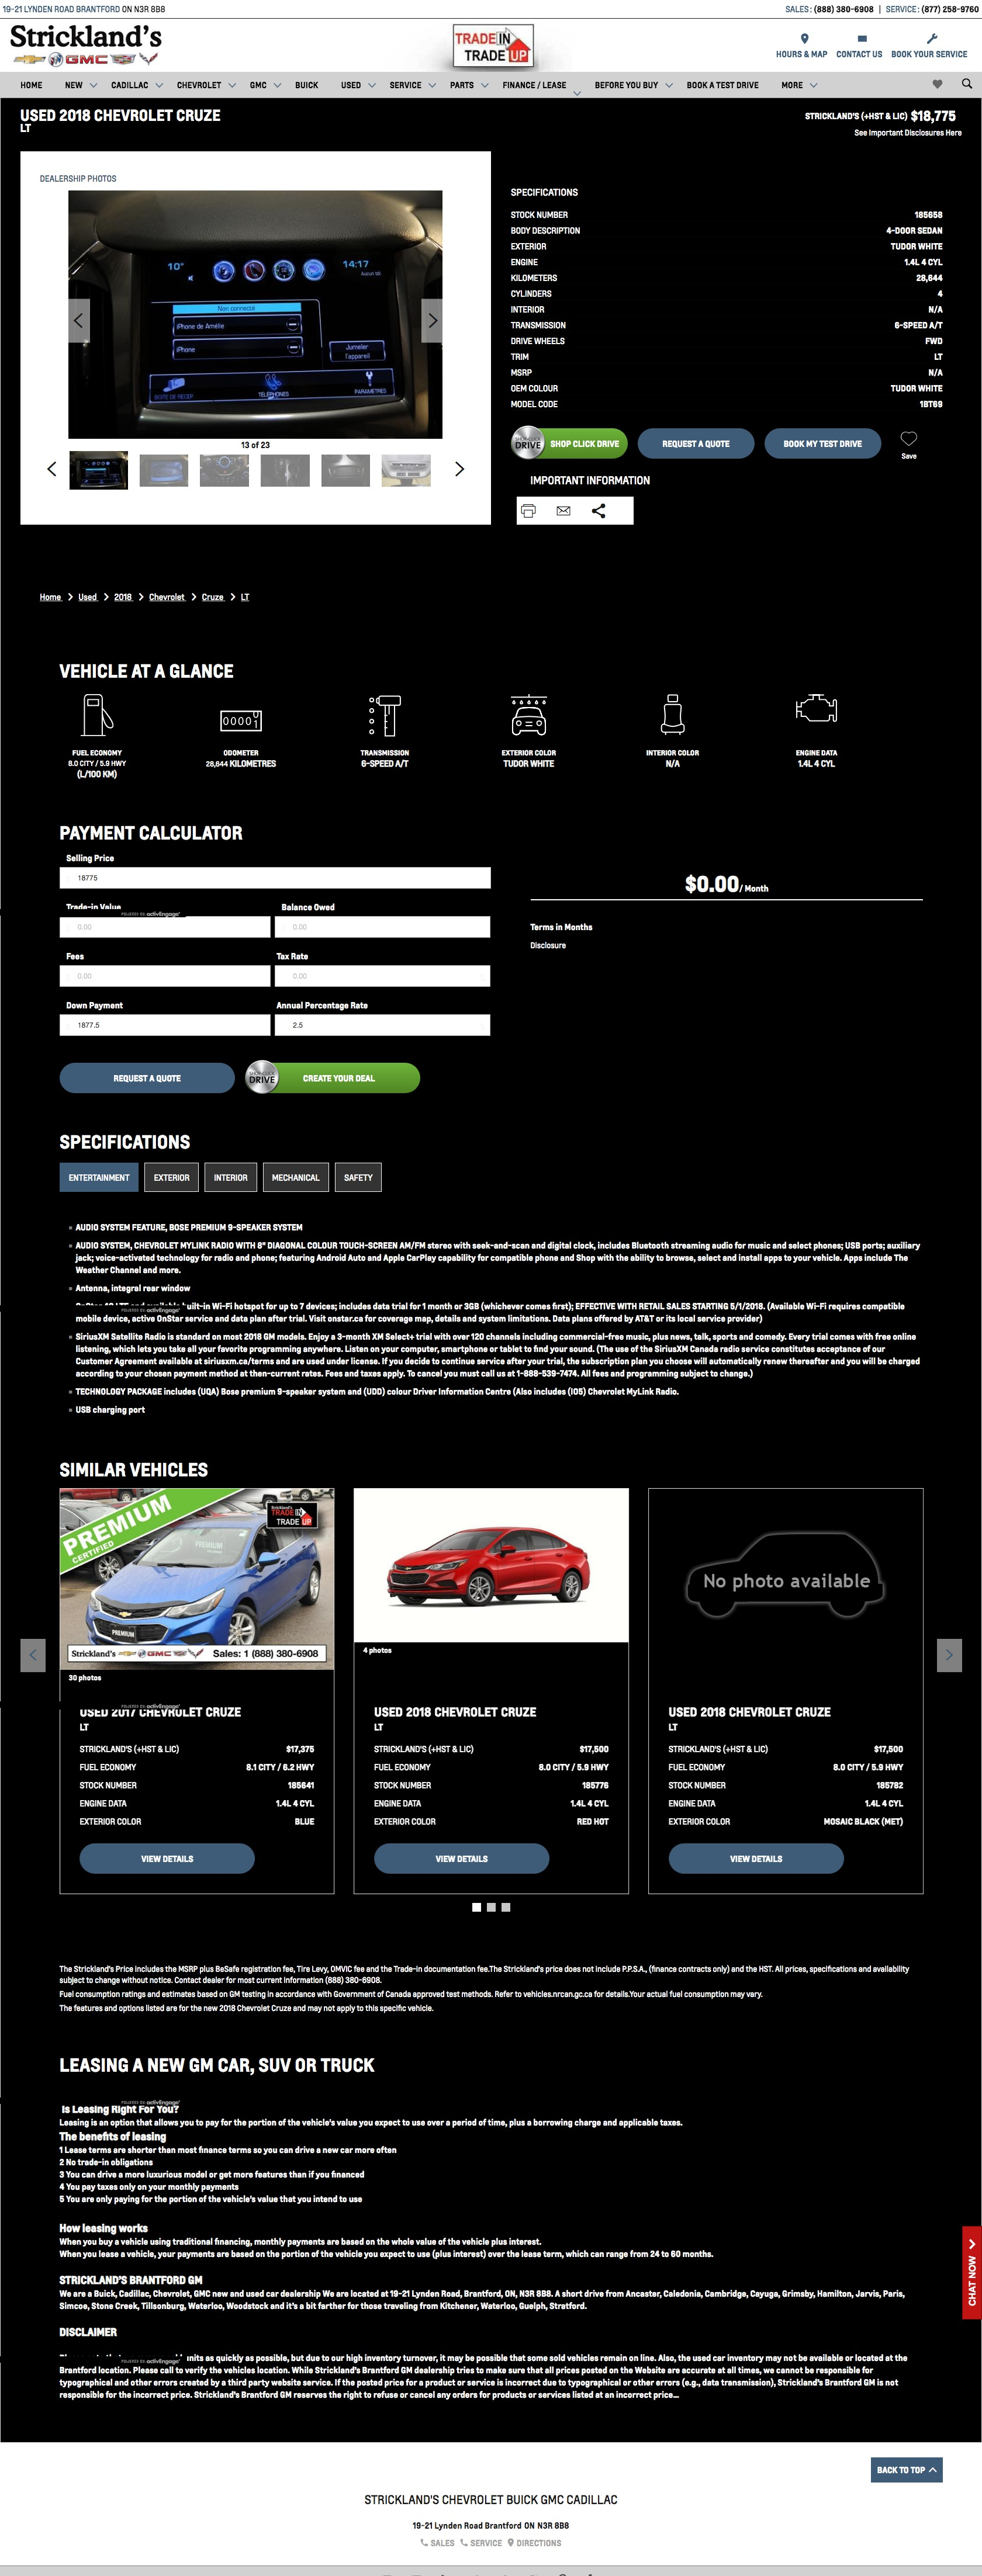car: (456, 462, 466, 478)
